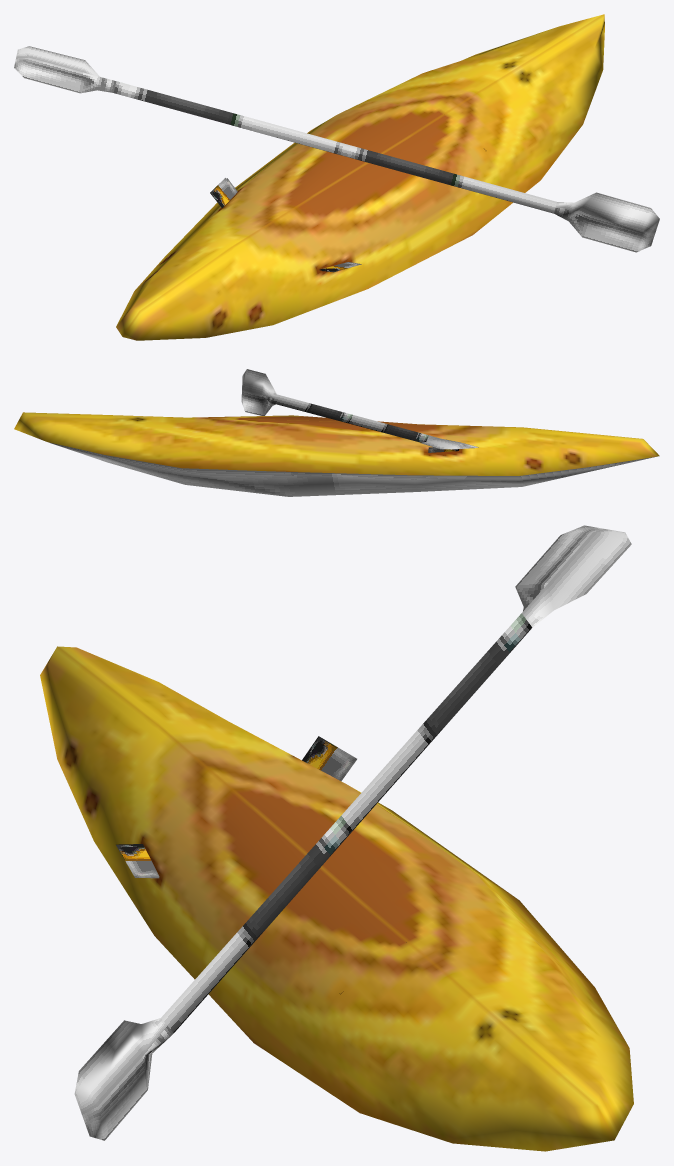
File: int_tnt_kayak.dae
The picture shows the model from 3 angles, top to bottom: view 1: azimuth 30°, elevation 25°; view 2: azimuth 150°, elevation 25°; view 3: azimuth 270°, elevation 25°; orthographic projection. The views are drawn at different scales.
Parts seen in each view (by area): view 1: int_tnt_kayak; view 2: int_tnt_kayak; view 3: int_tnt_kayak.
Part boxes in pixels (<box>): int_tnt_kayak: <box>14,14,659,340</box>; int_tnt_kayak: <box>14,369,659,496</box>; int_tnt_kayak: <box>40,525,633,1151</box>.
Bounding box in the file's own units: 54 × 14.4 × 27.5.
3 materials, 3 textured.
